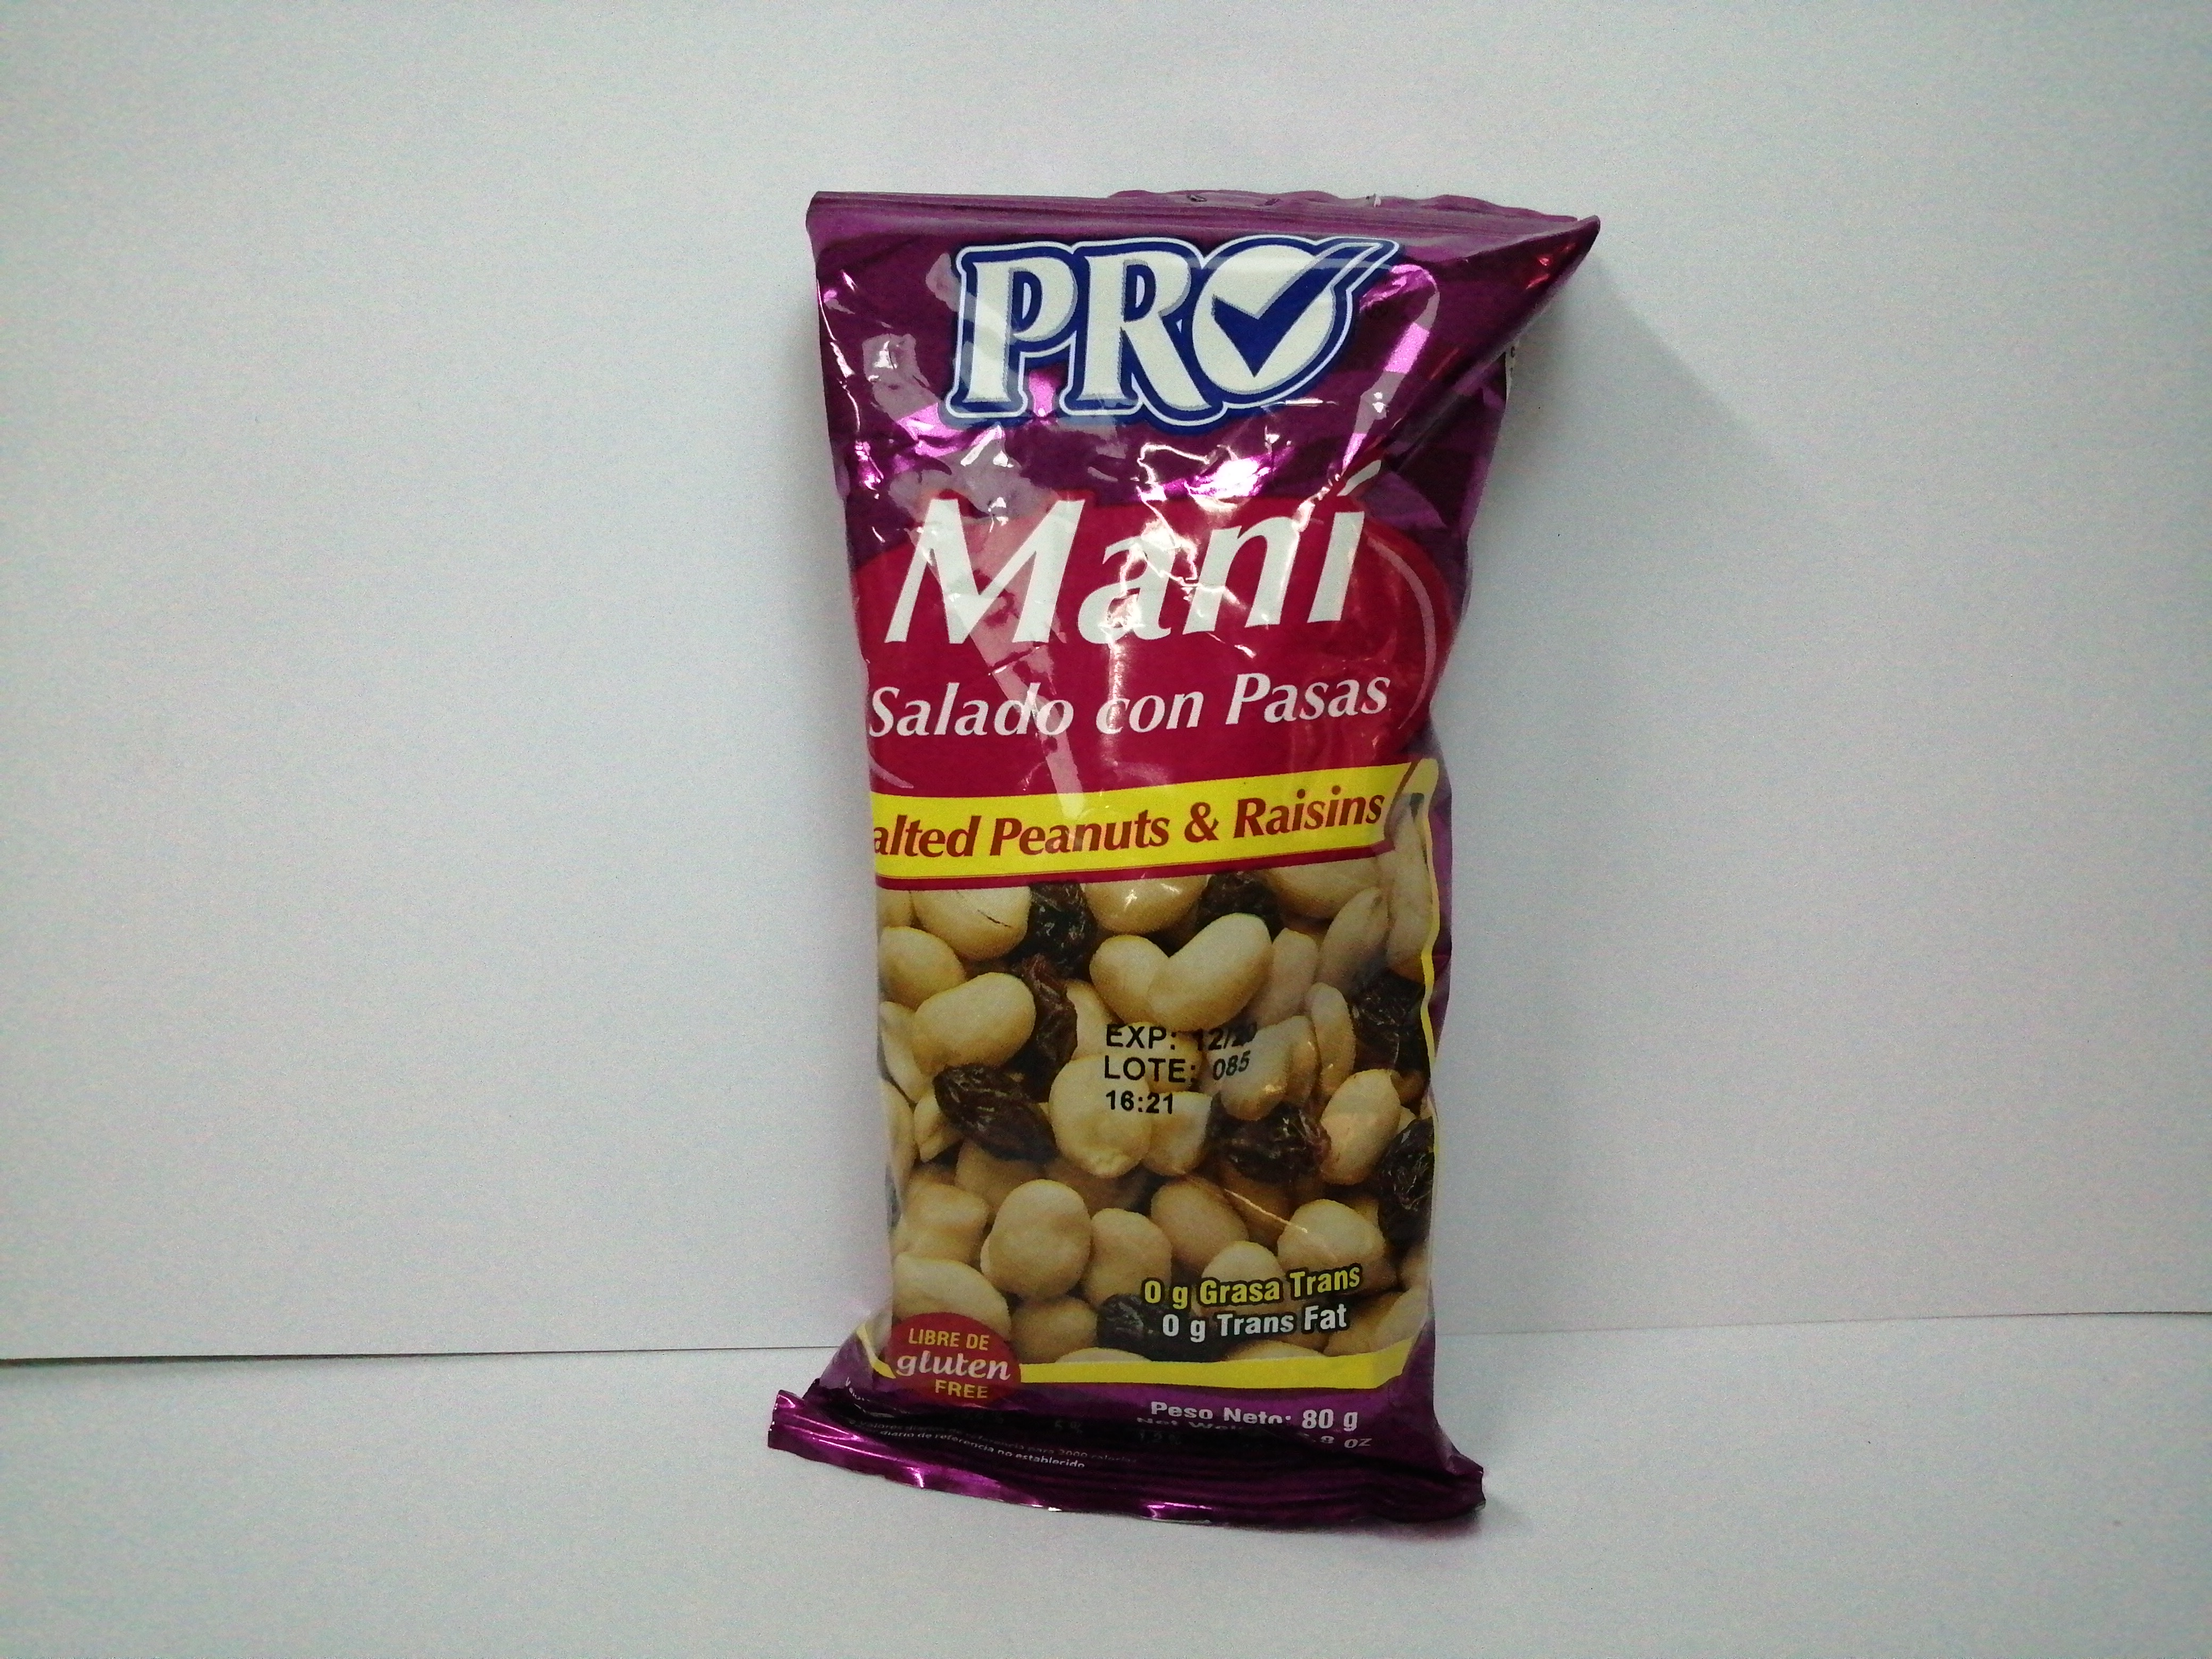mani: (775, 183, 1602, 1534)
